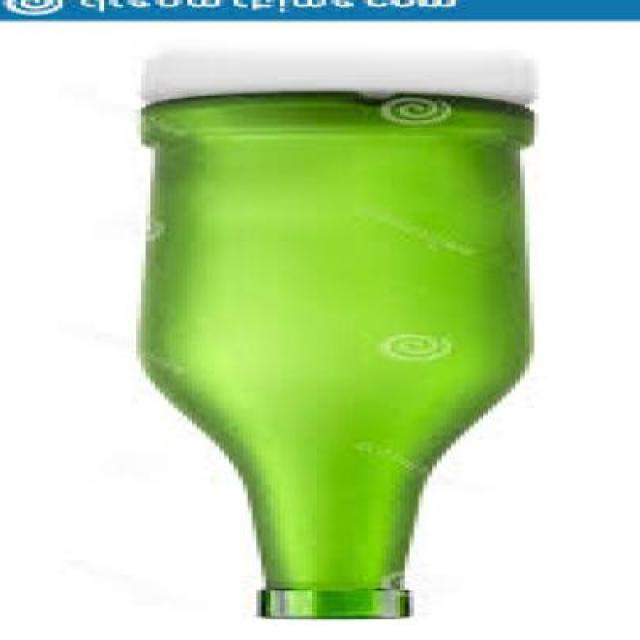kaca: (132, 93, 530, 624)
